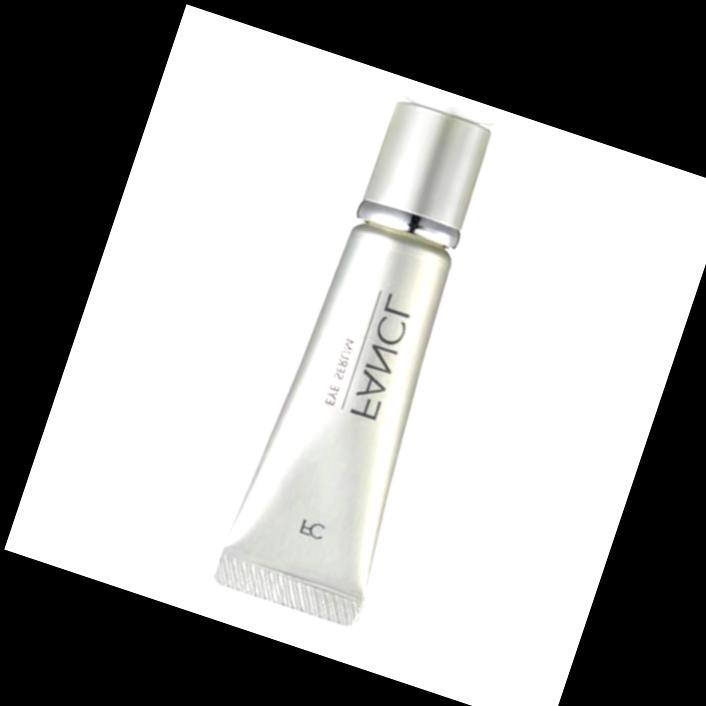cosmetic: (211, 88, 509, 629)
